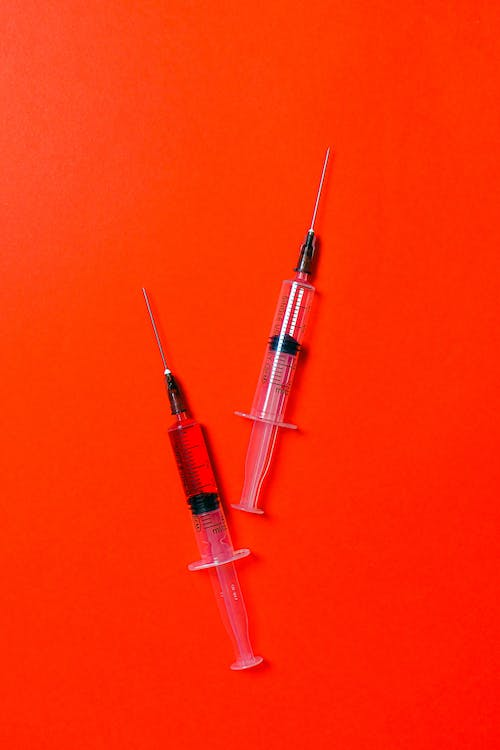blood: (158, 366, 223, 518)
